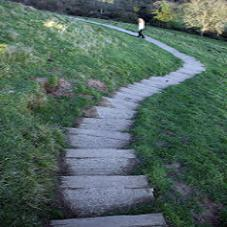Animal: (55, 139, 149, 194)
